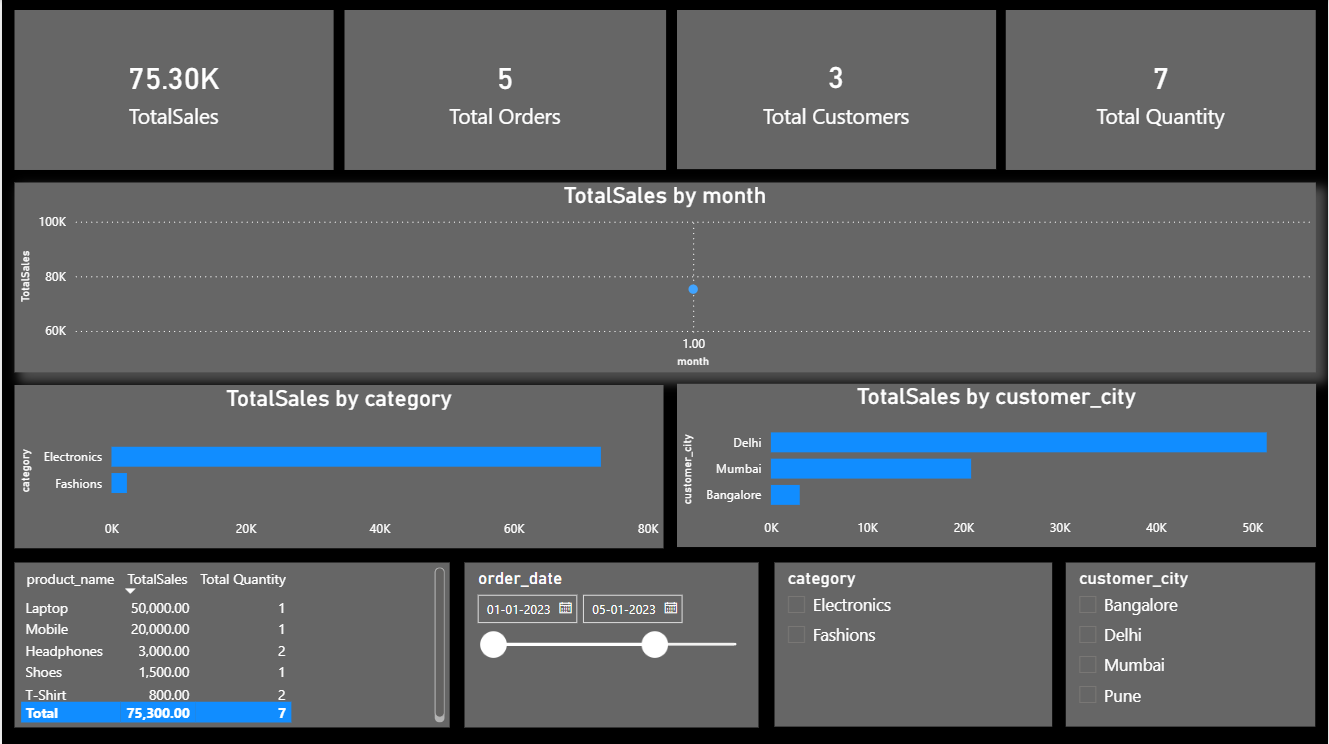

This screenshot's page, from the dashboard's own definition file:
{"tool":"powerbi","page":{"name":"Page 1","canvas":[1280,720],"ordinal":0},"visuals":[{"type":"card","fields":{"Values":["fact_sales.TotalSales"]},"box":[12.1,9.7,307.6,154.4],"z":0},{"type":"card","fields":{"Values":["fact_sales.Total Orders"]},"box":[330.6,9.7,310.1,154.4],"z":1},{"type":"card","fields":{"Values":["fact_sales.Total Customers"]},"box":[651.5,9.7,307.6,153.2],"z":2},{"type":"card","fields":{"Values":["fact_sales.Total Quantity"]},"box":[968.8,9.7,299.2,154.4],"z":3},{"type":"lineChart","fields":{"Category":["public dim_date.month"],"Y":["fact_sales.TotalSales"]},"box":[12.3,176.4,1255.7,183.3],"z":4},{"type":"barChart","fields":{"Category":["public dim_products.category"],"Y":["fact_sales.TotalSales"]},"box":[12.3,372,626.5,157.3],"z":5},{"type":"clusteredBarChart","fields":{"Category":["public dim_customers.customer_city"],"Y":["fact_sales.TotalSales"]},"box":[651.1,370.7,616.9,157.3],"z":6},{"type":"tableEx","fields":{"Values":["public dim_products.product_name","fact_sales.TotalSales","fact_sales.Total Quantity"]},"box":[12.1,542.9,419.8,159.3],"z":7},{"type":"slicer","fields":{"Values":["public dim_date.order_date"]},"box":[445.9,543,283.1,158.7],"z":8},{"type":"slicer","fields":{"Values":["public dim_products.category"]},"box":[745.5,543,268.1,158.7],"z":9},{"type":"slicer","fields":{"Values":["public dim_customers.customer_city"]},"box":[1027.2,543,240.7,158.7],"z":10}]}

Visuals, with their boxes in screenshot pixels (x1, y1, x2, y2), scaled from the page's 1280x720 canvas onto the 1329x744 screenshot:
card - fact_sales.TotalSales: Rect(13, 10, 332, 170)
card - fact_sales.Total Orders: Rect(343, 10, 665, 170)
card - fact_sales.Total Customers: Rect(676, 10, 996, 168)
card - fact_sales.Total Quantity: Rect(1006, 10, 1317, 170)
lineChart - public dim_date.month x fact_sales.TotalSales: Rect(13, 182, 1317, 372)
barChart - public dim_products.category x fact_sales.TotalSales: Rect(13, 384, 663, 547)
clusteredBarChart - public dim_customers.customer_city x fact_sales.TotalSales: Rect(676, 383, 1317, 546)
tableEx - public dim_products.product_name x fact_sales.TotalSales: Rect(13, 561, 448, 726)
slicer - public dim_date.order_date: Rect(463, 561, 757, 725)
slicer - public dim_products.category: Rect(774, 561, 1052, 725)
slicer - public dim_customers.customer_city: Rect(1067, 561, 1316, 725)
